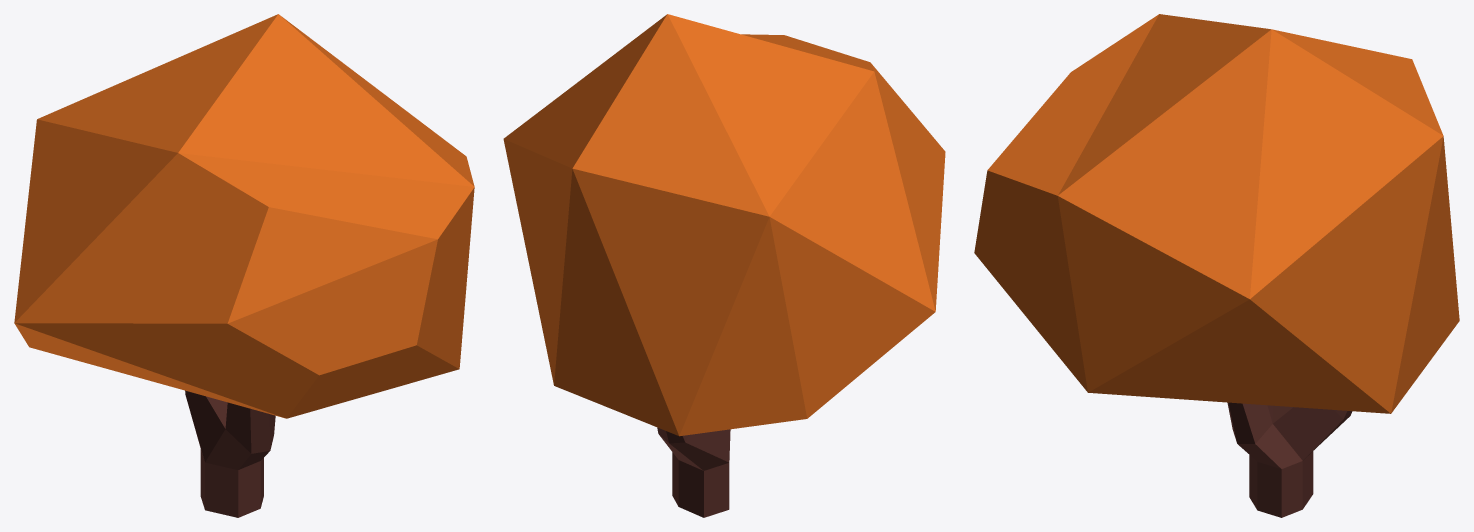
The model's file is bush_3.fbx.
3 renders of one model, left to right at view 1: azimuth 30°, elevation 25°; view 2: azimuth 150°, elevation 25°; view 3: azimuth 270°, elevation 25°, orthographic. The views are drawn at different scales.
Visible parts, largest first — view 1: bush_3; view 2: bush_3; view 3: bush_3.
Part boxes in pixels (x1,y1,x2,y2): bush_3: (14,14,474,517); bush_3: (503,14,945,517); bush_3: (974,14,1459,517).
Size of the model in its own units: 244 by 253 by 226.
